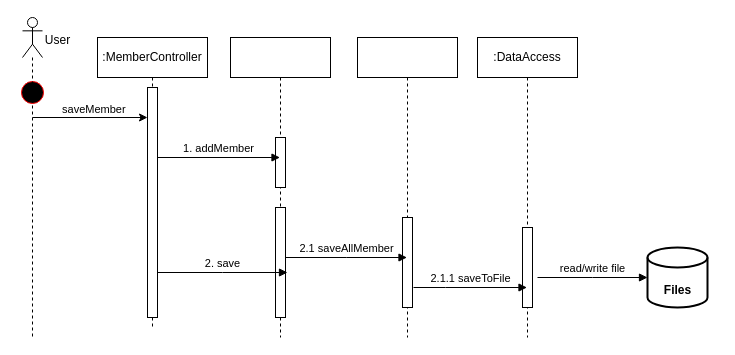
This 735x355 diagram has some shape labels left out. Each missing label, with the centre of its shape:
:MemberDao: the point at 407,187
:MemberService: the point at 280,187
